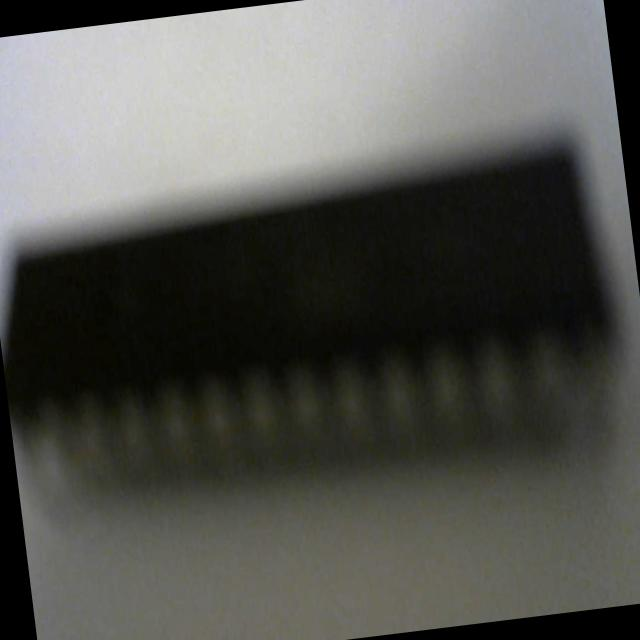atmega: (0, 130, 632, 526)
